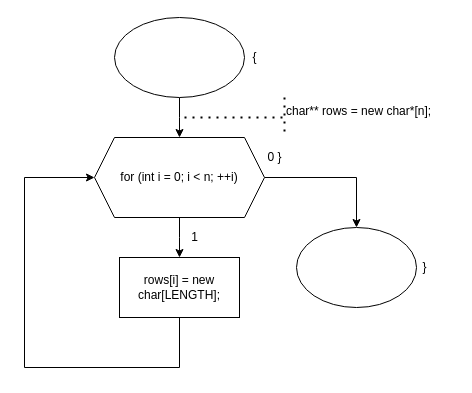
The diagram is 472 pixels wide and 393 high, and some of its shapes have lost their labels. The shapes that lost their labels are listed below. From the top down, each one's centre as x and y in pixels, then its label:
At point 179,57: "char** create_matrix(unsigned int n)".
At point 356,267: "return rows;".
